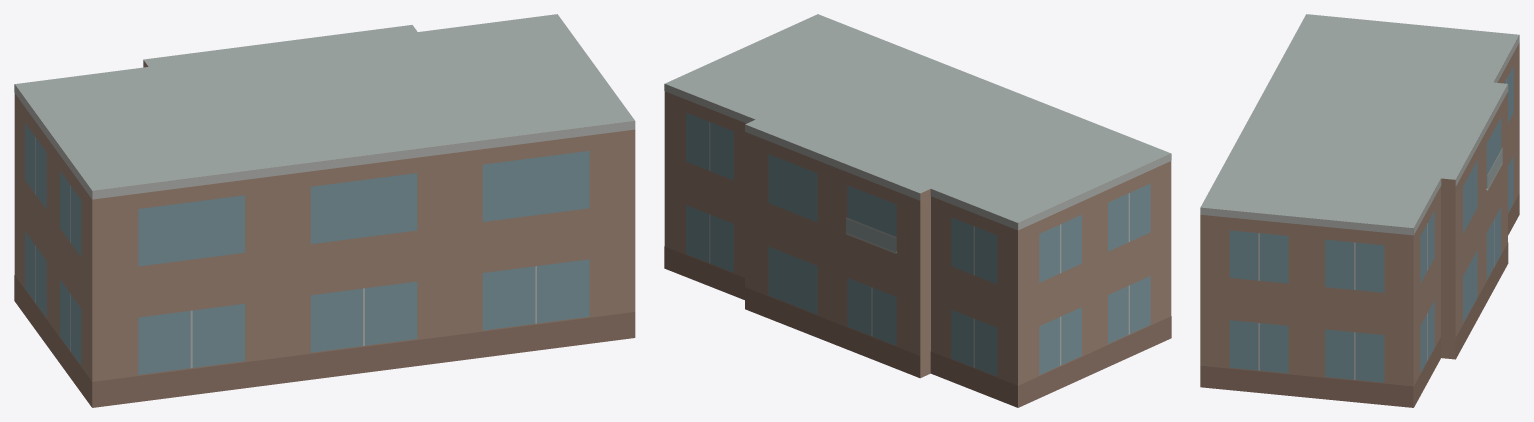
File: survey-upis-32971555.glb
3 renders of one model, left to right at view 1: azimuth 30°, elevation 25°; view 2: azimuth 150°, elevation 25°; view 3: azimuth 270°, elevation 25°, orthographic. The views are drawn at different scales.
Visible parts, largest first — view 1: survey-upis-32971555.tmp; view 2: survey-upis-32971555.tmp; view 3: survey-upis-32971555.tmp.
Boxes of the visible parts, <box> form: survey-upis-32971555.tmp: <box>14,14,635,407</box>; survey-upis-32971555.tmp: <box>664,14,1171,407</box>; survey-upis-32971555.tmp: <box>1200,14,1519,407</box>.
Bounding box in the file's own units: 15.61 × 6.1 × 9.84.
